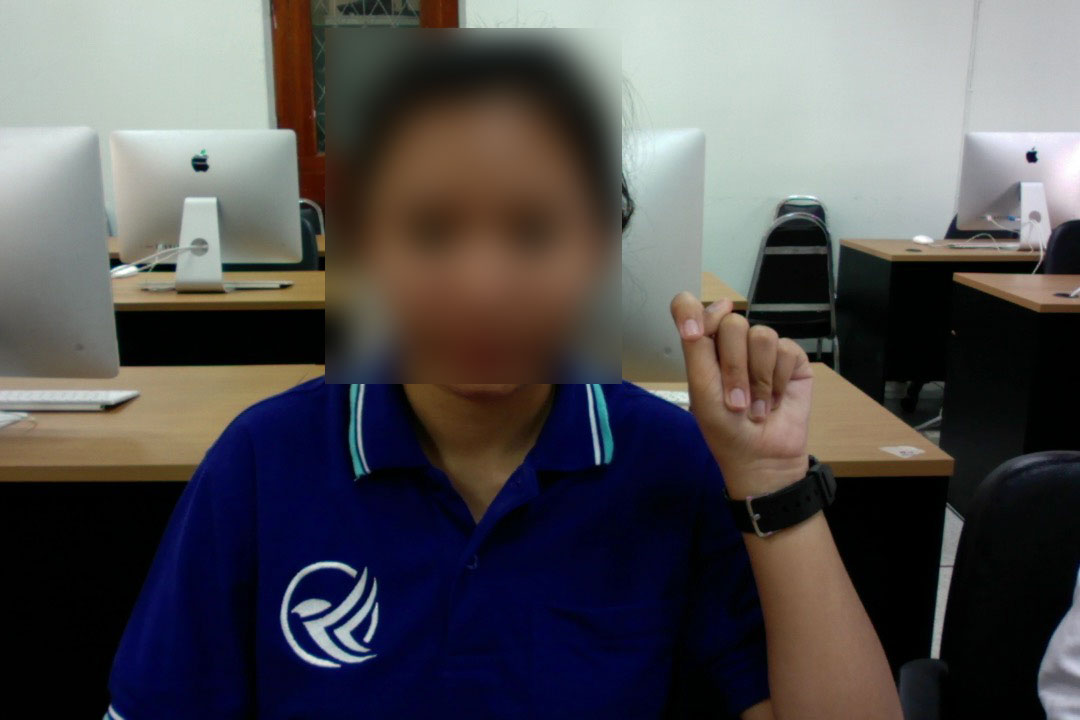tor: (668, 286, 817, 489)
